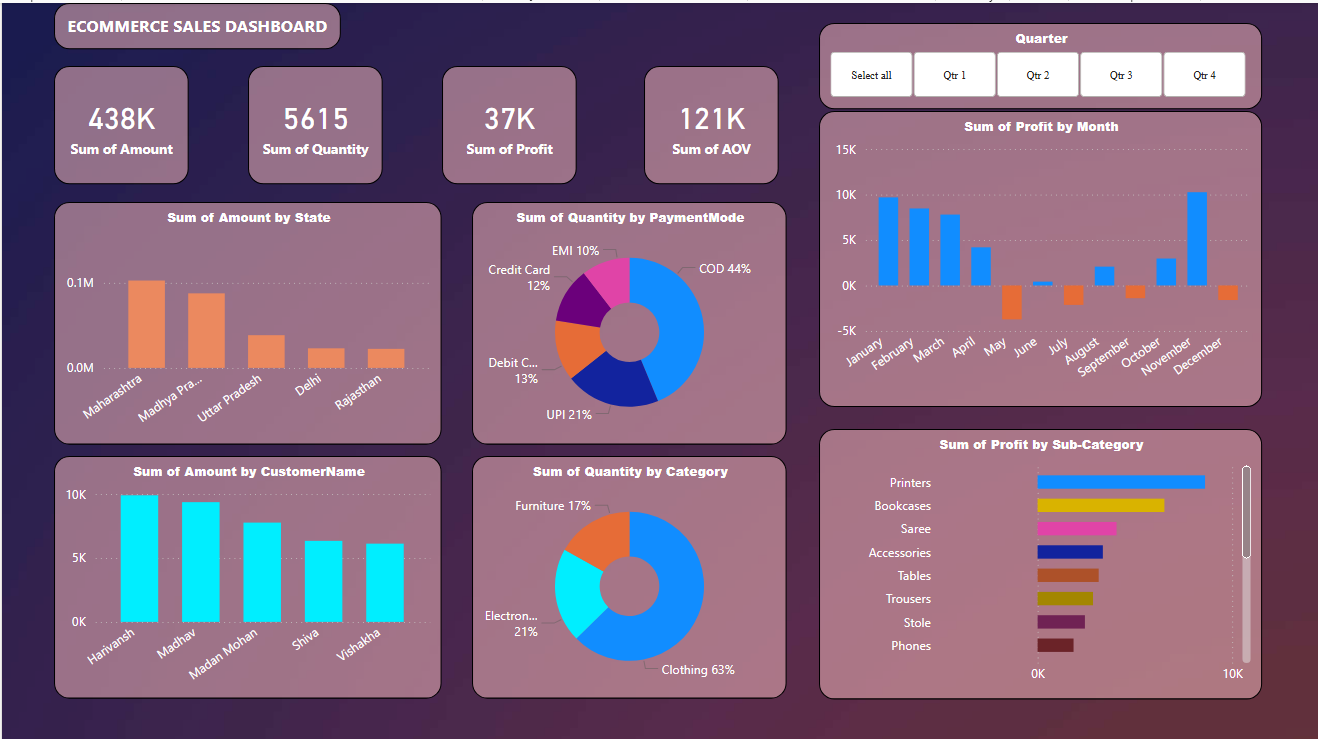

The page's visual inventory and layout, read from the dashboard file:
{"tool":"powerbi","page":{"name":"Page 1","canvas":[1280,720],"ordinal":0},"visuals":[{"type":"columnChart","fields":{"Y":["Sum(Details.Profit)"],"Category":["Orders.Order Date.Variation.Date Hierarchy.Month"]},"box":[794.7,105,430.9,287.9],"z":0},{"type":"textbox","box":[50.6,0,279.1,44.7],"z":1000},{"type":"barChart","fields":{"Category":["Details.Sub-Category"],"Y":["Sum(Details.Profit)"]},"box":[794.7,414.3,430.9,262.6],"z":2000},{"type":"donutChart","fields":{"Category":["Details.Category"],"Y":["Sum(Details.Quantity)"]},"box":[457.1,440.6,306.4,236.4],"z":3000},{"type":"donutChart","fields":{"Y":["Sum(Details.Quantity)"],"Category":["Details.PaymentMode"]},"box":[457.1,193.6,306.4,236.4],"z":4000},{"type":"card","fields":{"Values":["Sum(Details.Amount)"]},"box":[50.6,61.3,131.3,114.8],"z":5000},{"type":"card","fields":{"Values":["Sum(Details.Quantity)"]},"box":[239.3,61.3,131.3,114.8],"z":6000},{"type":"card","fields":{"Values":["Sum(Details.Profit)"]},"box":[428,61.3,131.3,114.8],"z":7000},{"type":"card","fields":{"Values":["Sum(Details.AOV)"]},"box":[624.4,61.3,131.3,114.8],"z":8000},{"type":"columnChart","fields":{"Category":["Orders.State"],"Y":["Sum(Details.Amount)"]},"box":[50.6,193.6,377.4,236.4],"z":9000},{"type":"columnChart","fields":{"Category":["Orders.CustomerName"],"Y":["Sum(Details.Amount)"]},"box":[50.6,440.6,377.4,236.4],"z":10000},{"type":"advancedSlicerVisual","fields":{"Values":["Orders.Order Date.Variation.Date Hierarchy.Quarter"]},"box":[794.7,19.5,430.9,83.6],"z":11000}]}

Visuals, with their boxes in screenshot pixels (x1, y1, x2, y2), scaled from the page's 1280x720 canvas onto the 1318x739 screenshot:
columnChart - Sum(Details.Profit) x Orders.Order Date.Variation.Date Hierarchy.Month: detection(818, 108, 1262, 403)
textbox: detection(52, 0, 339, 46)
barChart - Details.Sub-Category x Sum(Details.Profit): detection(818, 425, 1262, 695)
donutChart - Details.Category x Sum(Details.Quantity): detection(471, 452, 786, 695)
donutChart - Sum(Details.Quantity) x Details.PaymentMode: detection(471, 199, 786, 441)
card - Sum(Details.Amount): detection(52, 63, 187, 181)
card - Sum(Details.Quantity): detection(246, 63, 382, 181)
card - Sum(Details.Profit): detection(441, 63, 576, 181)
card - Sum(Details.AOV): detection(643, 63, 778, 181)
columnChart - Orders.State x Sum(Details.Amount): detection(52, 199, 441, 441)
columnChart - Orders.CustomerName x Sum(Details.Amount): detection(52, 452, 441, 695)
advancedSlicerVisual - Orders.Order Date.Variation.Date Hierarchy.Quarter: detection(818, 20, 1262, 106)
